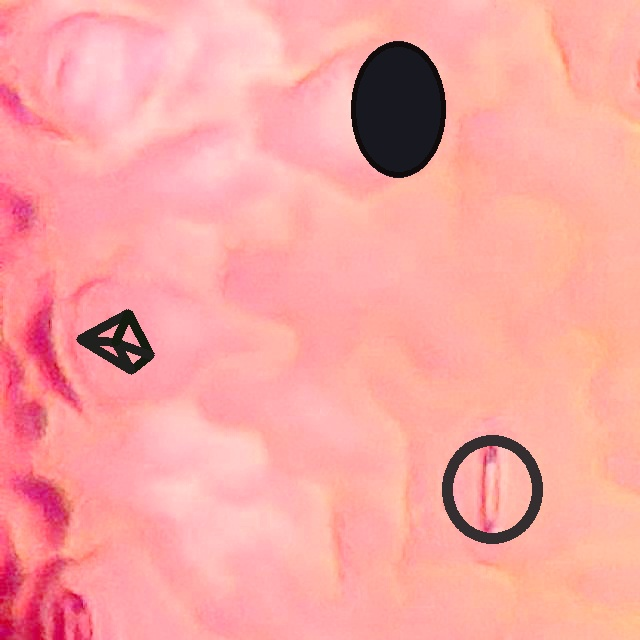close: (76, 309, 154, 374)
open: (351, 41, 445, 176), (443, 434, 542, 544)
